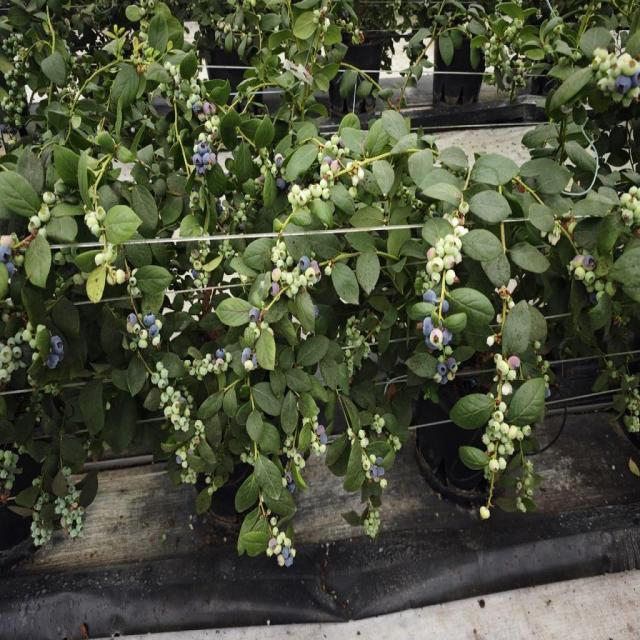RipeBlueBerry: (615, 76, 632, 94), (50, 336, 64, 354), (47, 353, 60, 370), (0, 245, 11, 263), (5, 263, 18, 278), (422, 318, 432, 337), (424, 290, 437, 304), (249, 308, 260, 323), (146, 313, 156, 328), (438, 362, 448, 377), (193, 101, 204, 114), (148, 324, 158, 338), (299, 256, 309, 270), (241, 348, 251, 362), (197, 142, 208, 154), (284, 554, 294, 567), (127, 313, 137, 326), (202, 153, 212, 165), (274, 154, 284, 166), (193, 153, 202, 166), (282, 546, 290, 560), (216, 347, 226, 358), (276, 179, 286, 189), (369, 466, 377, 478), (442, 301, 450, 311), (320, 434, 328, 444), (377, 467, 385, 477), (176, 456, 182, 465)
Semi-RipeBlueBerry: (582, 254, 596, 272), (508, 356, 520, 372), (270, 283, 280, 298), (626, 197, 638, 209), (331, 160, 341, 174), (203, 103, 213, 116), (269, 538, 277, 550), (316, 425, 324, 435), (310, 260, 318, 270)
UnripeBlueBerry: (622, 56, 638, 76), (430, 329, 443, 347), (605, 281, 618, 297), (0, 347, 12, 364), (610, 61, 622, 77), (38, 208, 51, 222), (444, 240, 455, 256), (94, 252, 105, 268), (574, 267, 586, 281), (584, 271, 596, 285), (622, 208, 634, 222), (116, 270, 128, 284), (28, 216, 40, 230), (497, 361, 508, 376), (446, 270, 456, 286), (20, 328, 31, 342), (87, 217, 99, 229), (304, 268, 316, 280), (43, 192, 55, 204), (433, 258, 443, 272), (507, 426, 517, 440), (271, 268, 281, 282), (96, 208, 106, 222), (311, 184, 321, 197), (172, 402, 182, 415), (480, 506, 490, 518), (489, 460, 499, 472), (494, 410, 504, 422), (297, 194, 307, 206), (160, 368, 169, 381), (294, 452, 302, 466), (504, 441, 514, 452), (459, 203, 469, 214), (244, 360, 253, 372), (138, 339, 148, 349), (164, 407, 173, 418), (211, 116, 220, 127), (498, 458, 506, 470), (152, 373, 160, 385), (523, 425, 531, 436), (172, 414, 180, 425), (140, 329, 148, 340), (277, 555, 285, 566), (205, 121, 212, 133), (482, 434, 490, 444), (498, 402, 506, 412), (194, 420, 202, 430), (160, 393, 168, 403), (152, 337, 160, 347), (200, 366, 208, 376), (193, 261, 201, 271), (274, 544, 282, 554), (502, 423, 509, 434), (179, 418, 187, 427), (216, 360, 224, 369), (492, 422, 499, 432), (158, 379, 165, 389), (156, 360, 163, 370), (167, 386, 174, 396), (180, 451, 187, 461)
